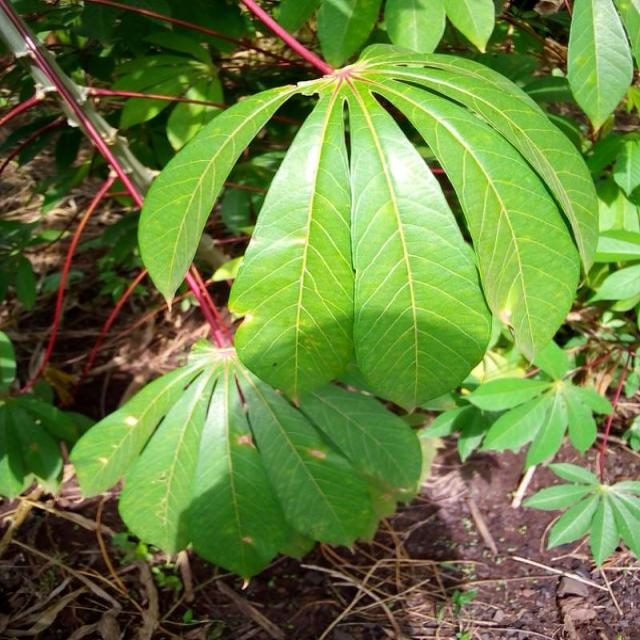cassava leaf: (69, 36, 602, 578), (69, 337, 388, 580), (347, 76, 494, 413), (228, 75, 355, 403)
